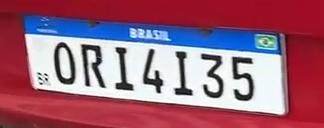Placa_mercosul_carro: (25, 17, 284, 114)
